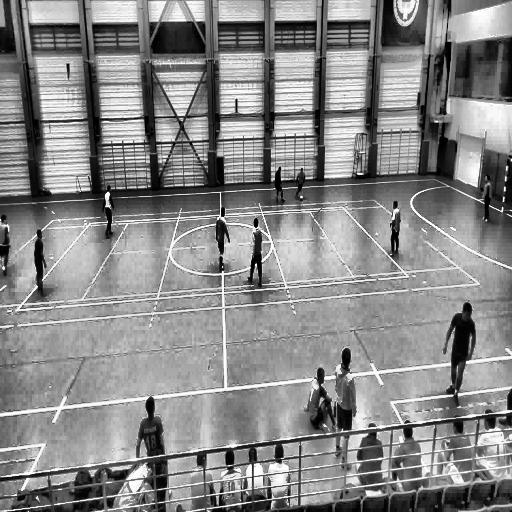ball: (298, 194, 304, 203)
player: (444, 301, 475, 404), (332, 347, 357, 470), (137, 397, 165, 467), (246, 218, 264, 286), (34, 228, 48, 296), (216, 205, 230, 271), (389, 199, 401, 257), (0, 213, 11, 276), (103, 184, 115, 237), (481, 173, 492, 223), (273, 164, 285, 203), (294, 166, 306, 200)
